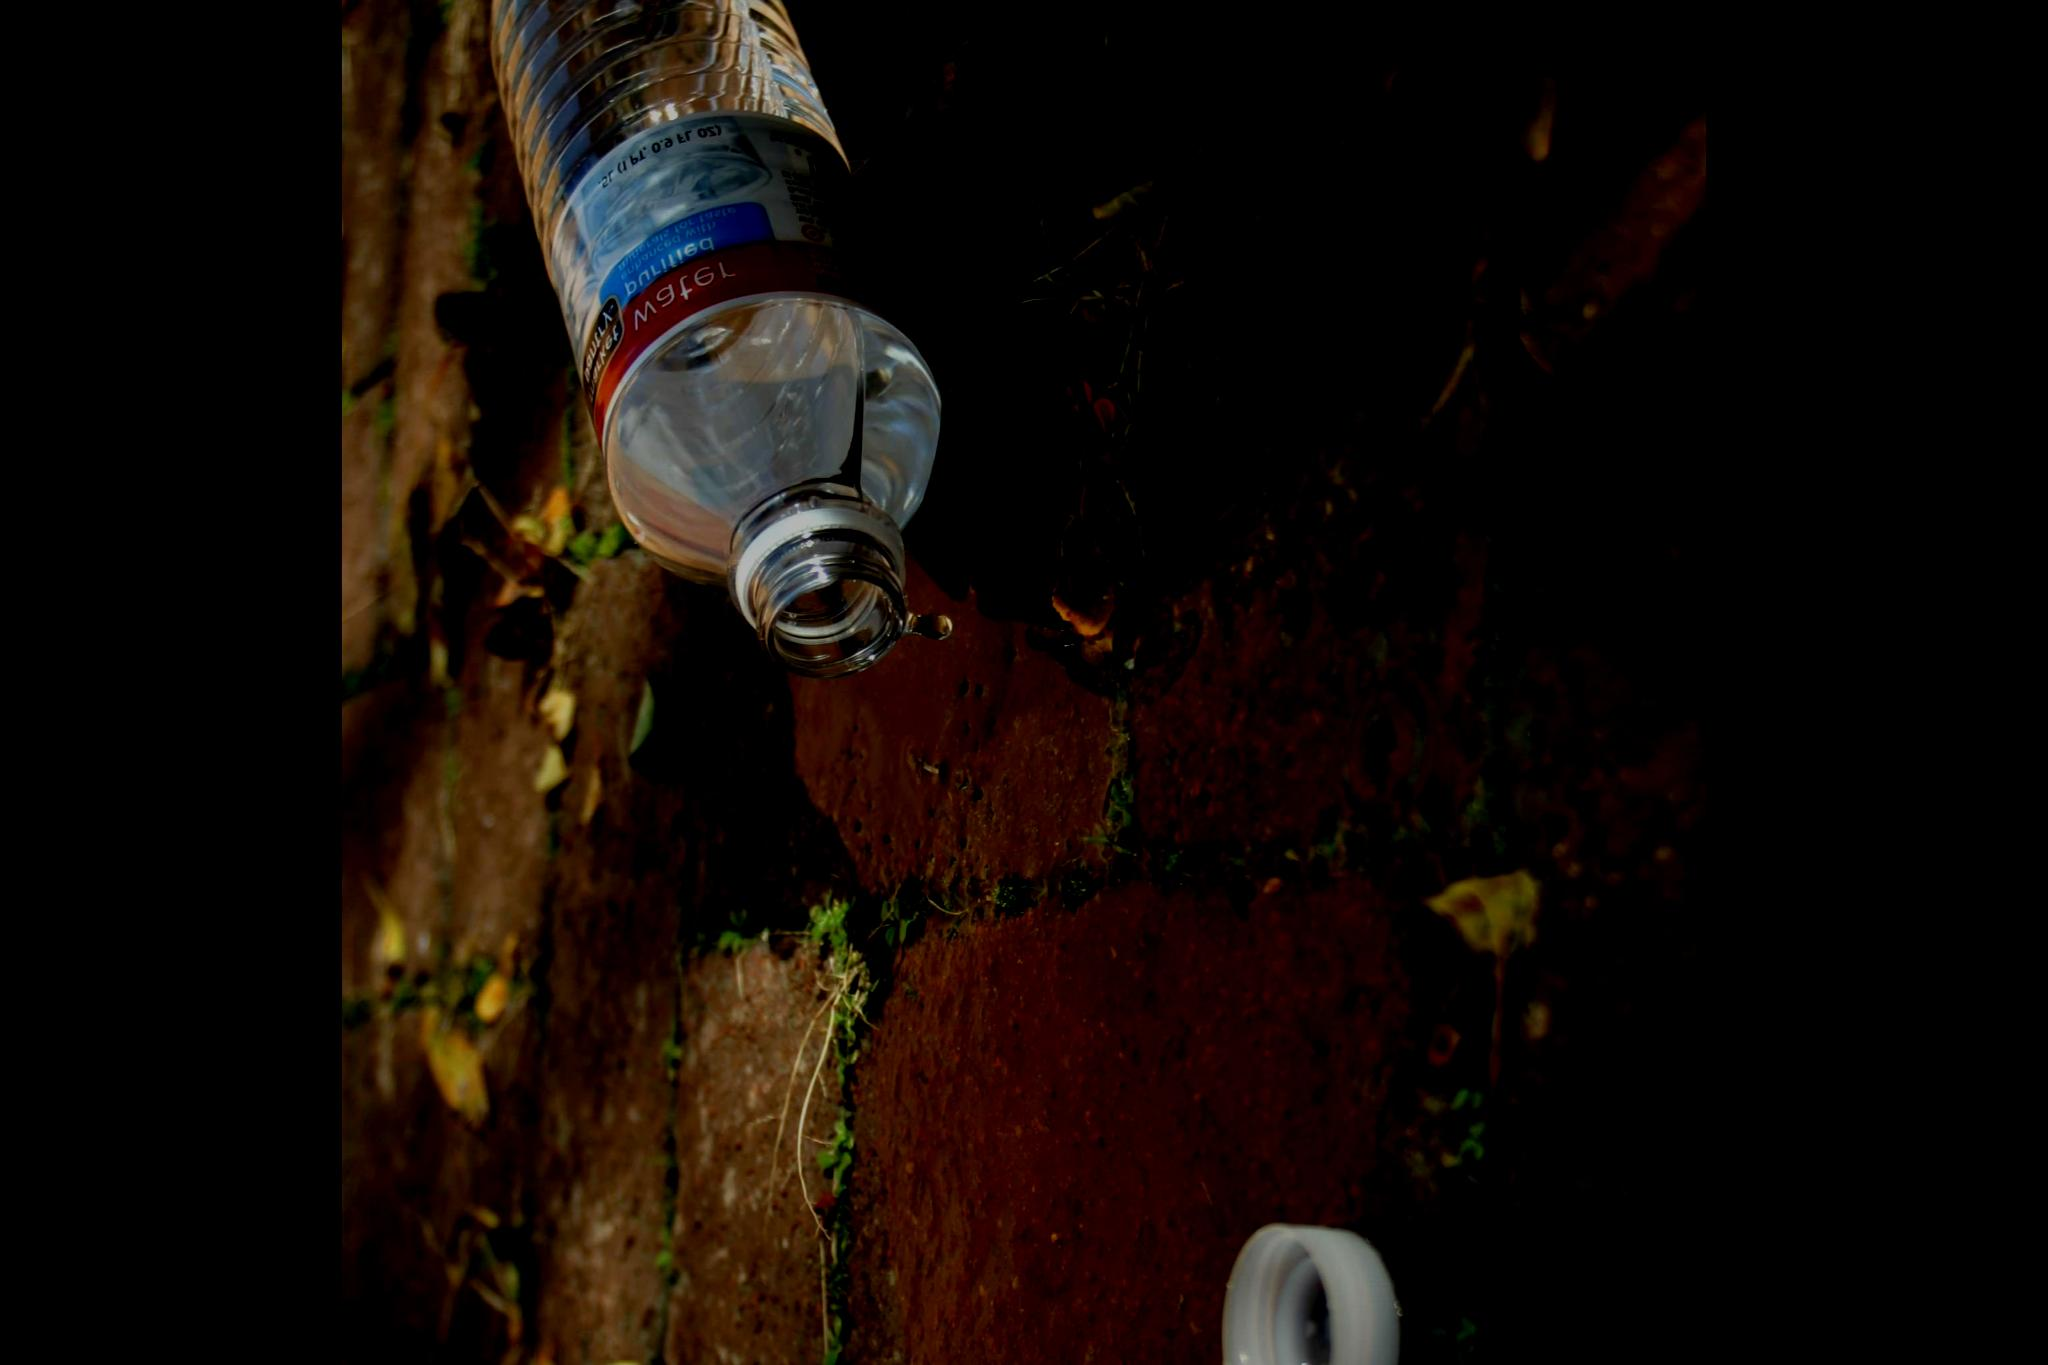bottle: (479, 0, 977, 684)
